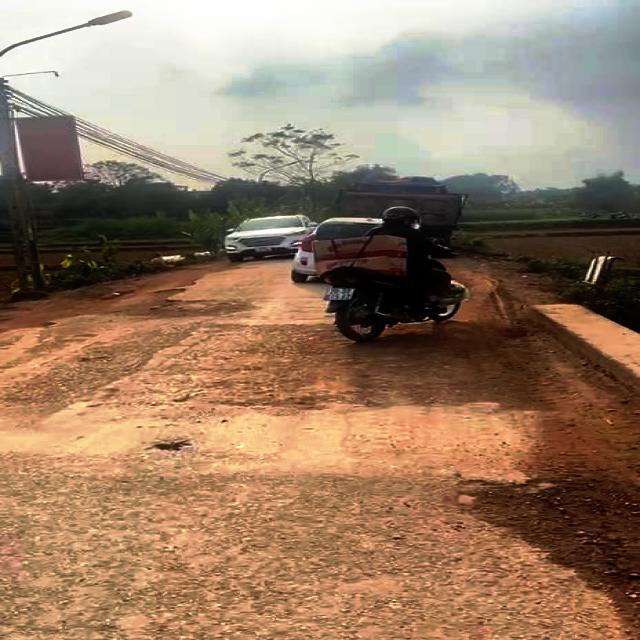pothole: (95, 287, 266, 318), (216, 391, 348, 416)
